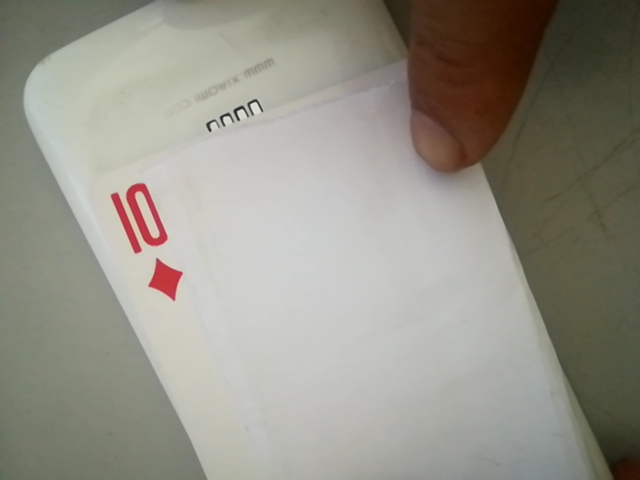fk 10: (105, 173, 191, 303)
